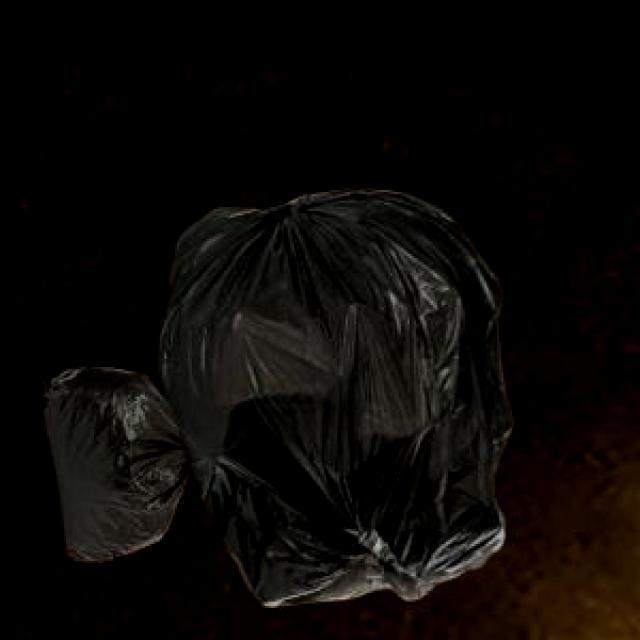Trashbag: (159, 182, 520, 603), (42, 360, 176, 560)
